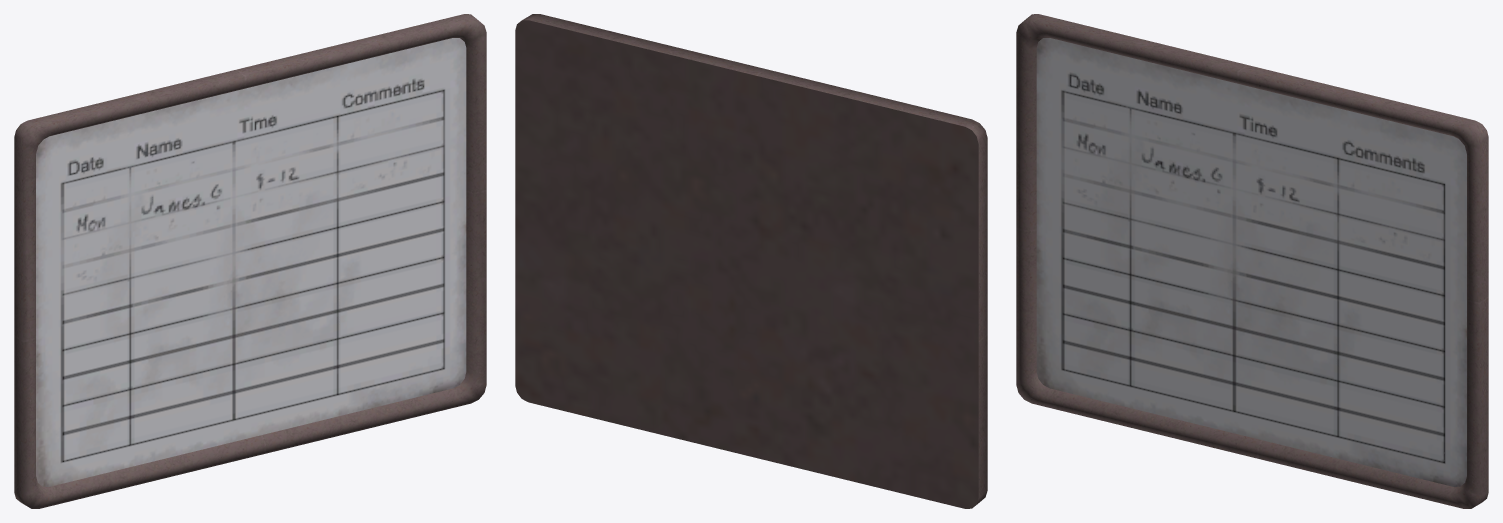
File: schedule_board02.dae
The picture shows the model from 3 angles, left to right: view 1: azimuth 30°, elevation 25°; view 2: azimuth 150°, elevation 25°; view 3: azimuth 330°, elevation 25°; orthographic projection.
Parts seen in each view (by area): view 1: pCube24; view 2: pCube24; view 3: pCube24.
Part boxes in pixels (left/top/right/bottom): pCube24: left=14, top=14, right=486, bottom=508; pCube24: left=515, top=14, right=987, bottom=508; pCube24: left=1016, top=14, right=1488, bottom=508.
Size of the model in its own units: 48.9 by 38.55 by 1.7.
Materials: 1 (1 with a texture image).
